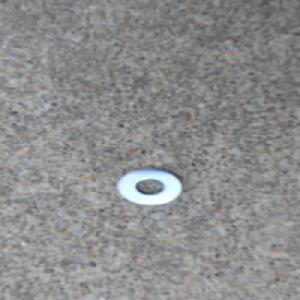Washer: (113, 165, 187, 208)
